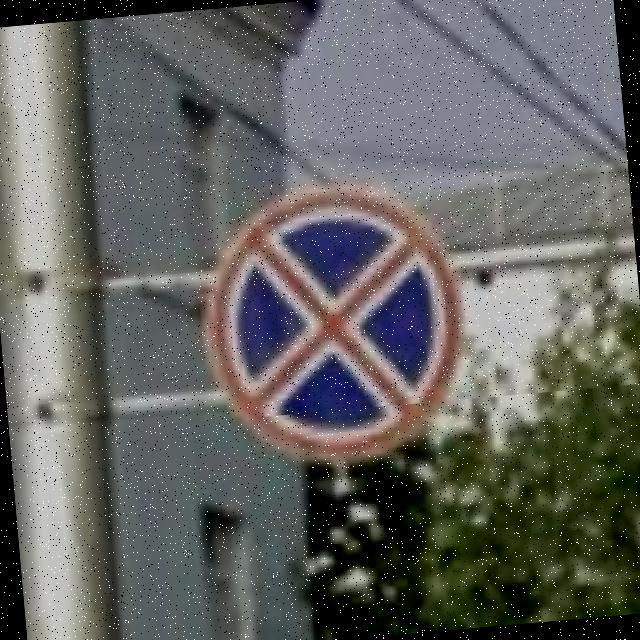Zakaz zatrzymywania sie: (192, 173, 470, 472)
